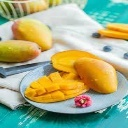mango: (73, 58, 118, 93)
